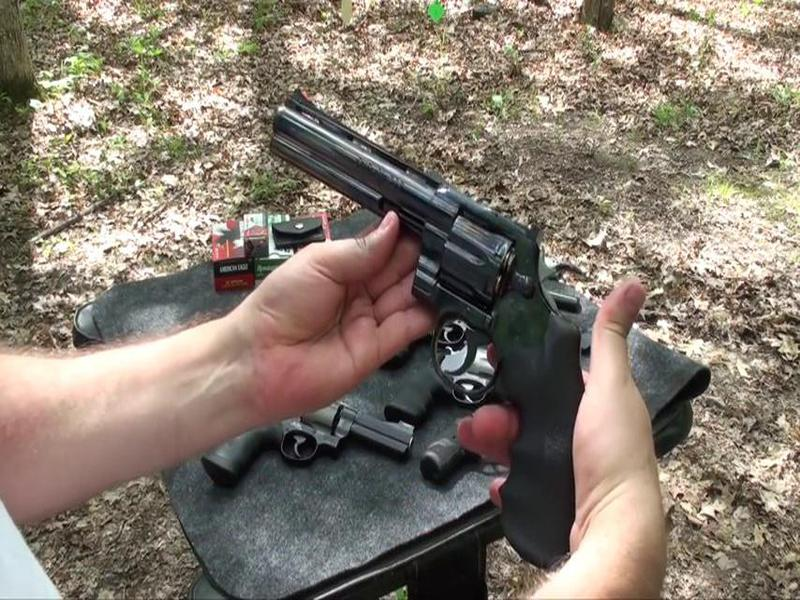Revolver: (268, 55, 576, 545)
